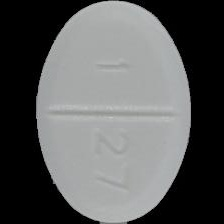42543-705: (0, 0, 224, 224)
